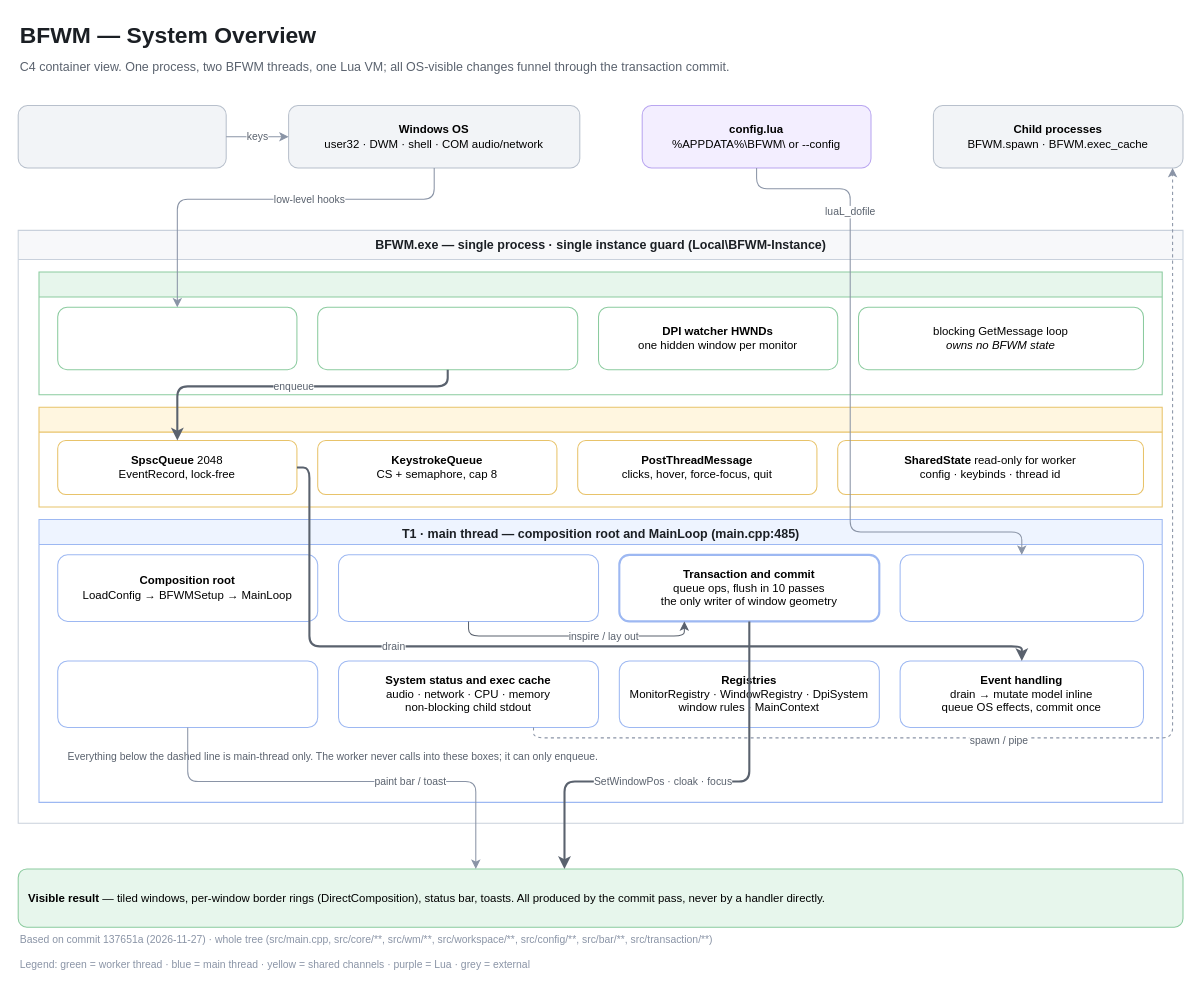
Image size: 1201x994. Some labels were removed from this diagram. Each missing label, with the box of its shape:
Channels — the only legal way across: (38, 406, 1162, 507)
Input hooks WH_KEYBOARD_LL + WH_MOUSE_LL: (57, 306, 297, 370)
Lua config parser VM + __newindex validation defaults merge, hot reload: (899, 554, 1143, 621)
T2 · worker thread — StartEventWatching (wm_worker.cpp:132): (38, 271, 1162, 395)
UI shell one bar per monitor · snackbar overlay · tray icon: (57, 660, 318, 727)
User keyboard, mouse: (17, 105, 226, 168)
WinEvent hooks ×4 OUTOFCONTEXT + SKIPOWNPROCESS: (317, 306, 578, 370)
Workspace engine monitor → workspace → window dwindle · master · monocle: (337, 554, 599, 621)
